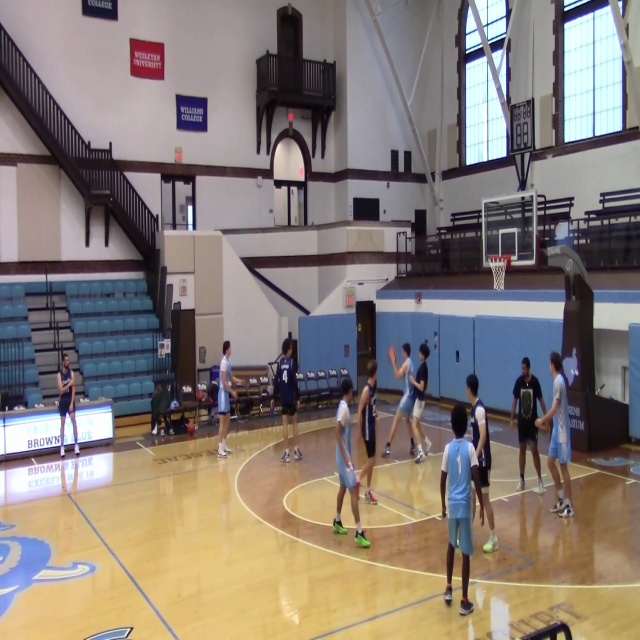Basketball: (534, 418, 550, 432)
